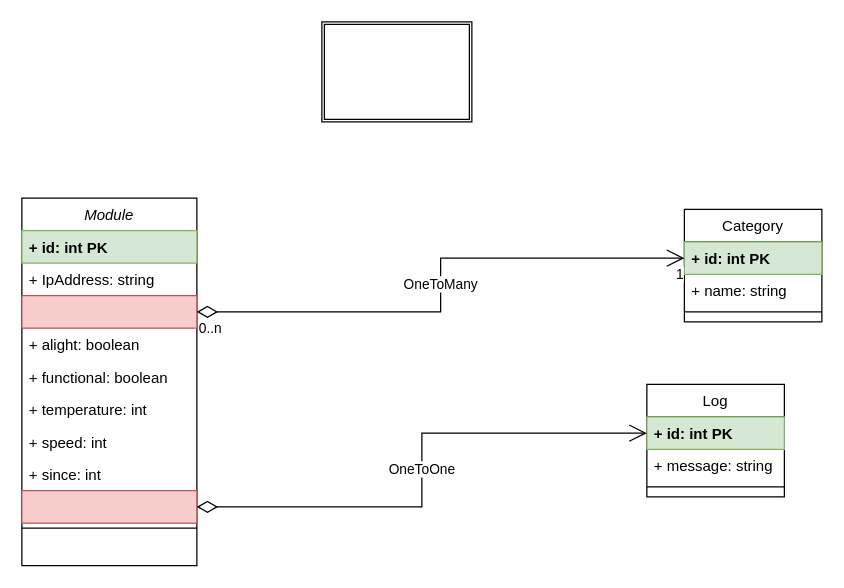
This 844x588 diagram has some shape labels left out. The centre of each missing label's shape, as x and y in pixels:
"+ category: int FK" goes at point (109, 311).
"+ log: int FK" goes at point (109, 506).
"RELATIONS" goes at point (396, 71).
